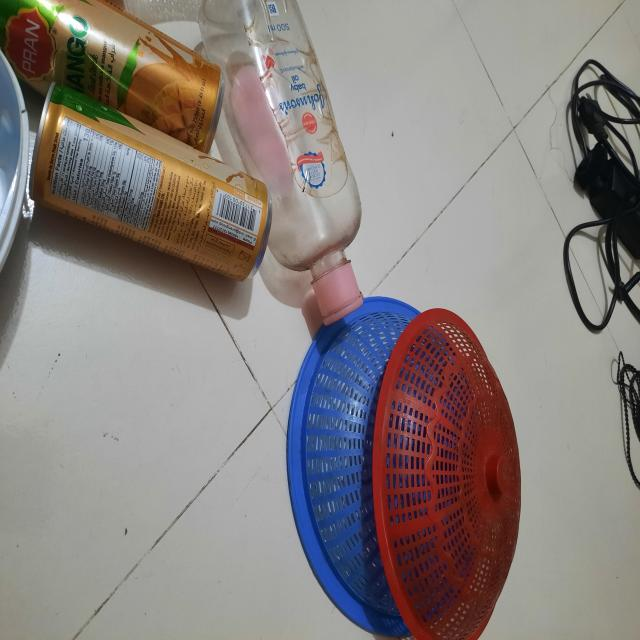Cable: (569, 45, 640, 511)
Plastics: (298, 308, 516, 640), (256, 0, 381, 322)
can: (21, 0, 258, 297)
